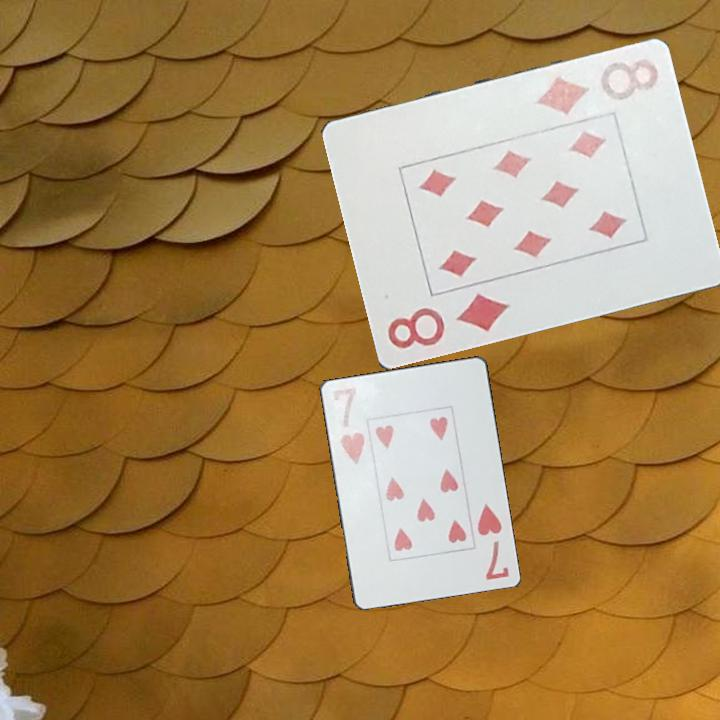7h: (328, 383, 367, 467), (473, 500, 512, 584)
8d: (531, 55, 662, 118), (383, 290, 513, 353)
